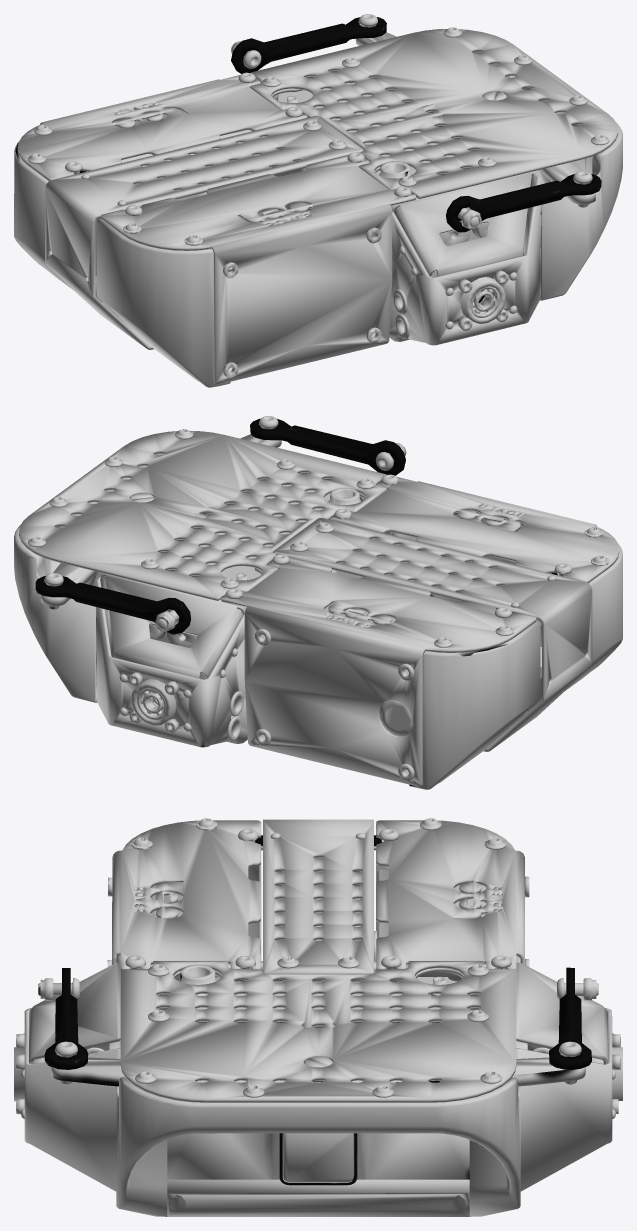
The model's file is Chassis_v2.dae.
3 views of the same model, one above another, from view 1: azimuth 30°, elevation 25°; view 2: azimuth 150°, elevation 25°; view 3: azimuth 270°, elevation 25° (orthographic). The views are drawn at different scales.
Parts seen in each view (by area): view 1: chassis; view 2: chassis; view 3: chassis.
Boxes of the visible parts, x1=… form: chassis: x1=14, y1=14, x2=622, y2=387; chassis: x1=14, y1=416, x2=622, y2=789; chassis: x1=14, y1=818, x2=622, y2=1216.
Bounding box in the file's own units: 0.311 × 0.2821 × 0.0979.
1 material, 1 textured.
